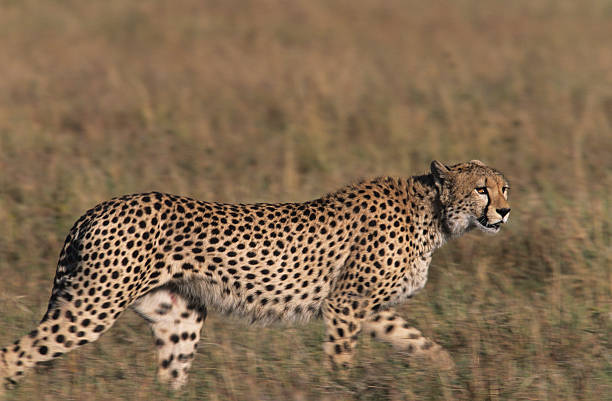cheetah: (420, 146, 519, 244)
